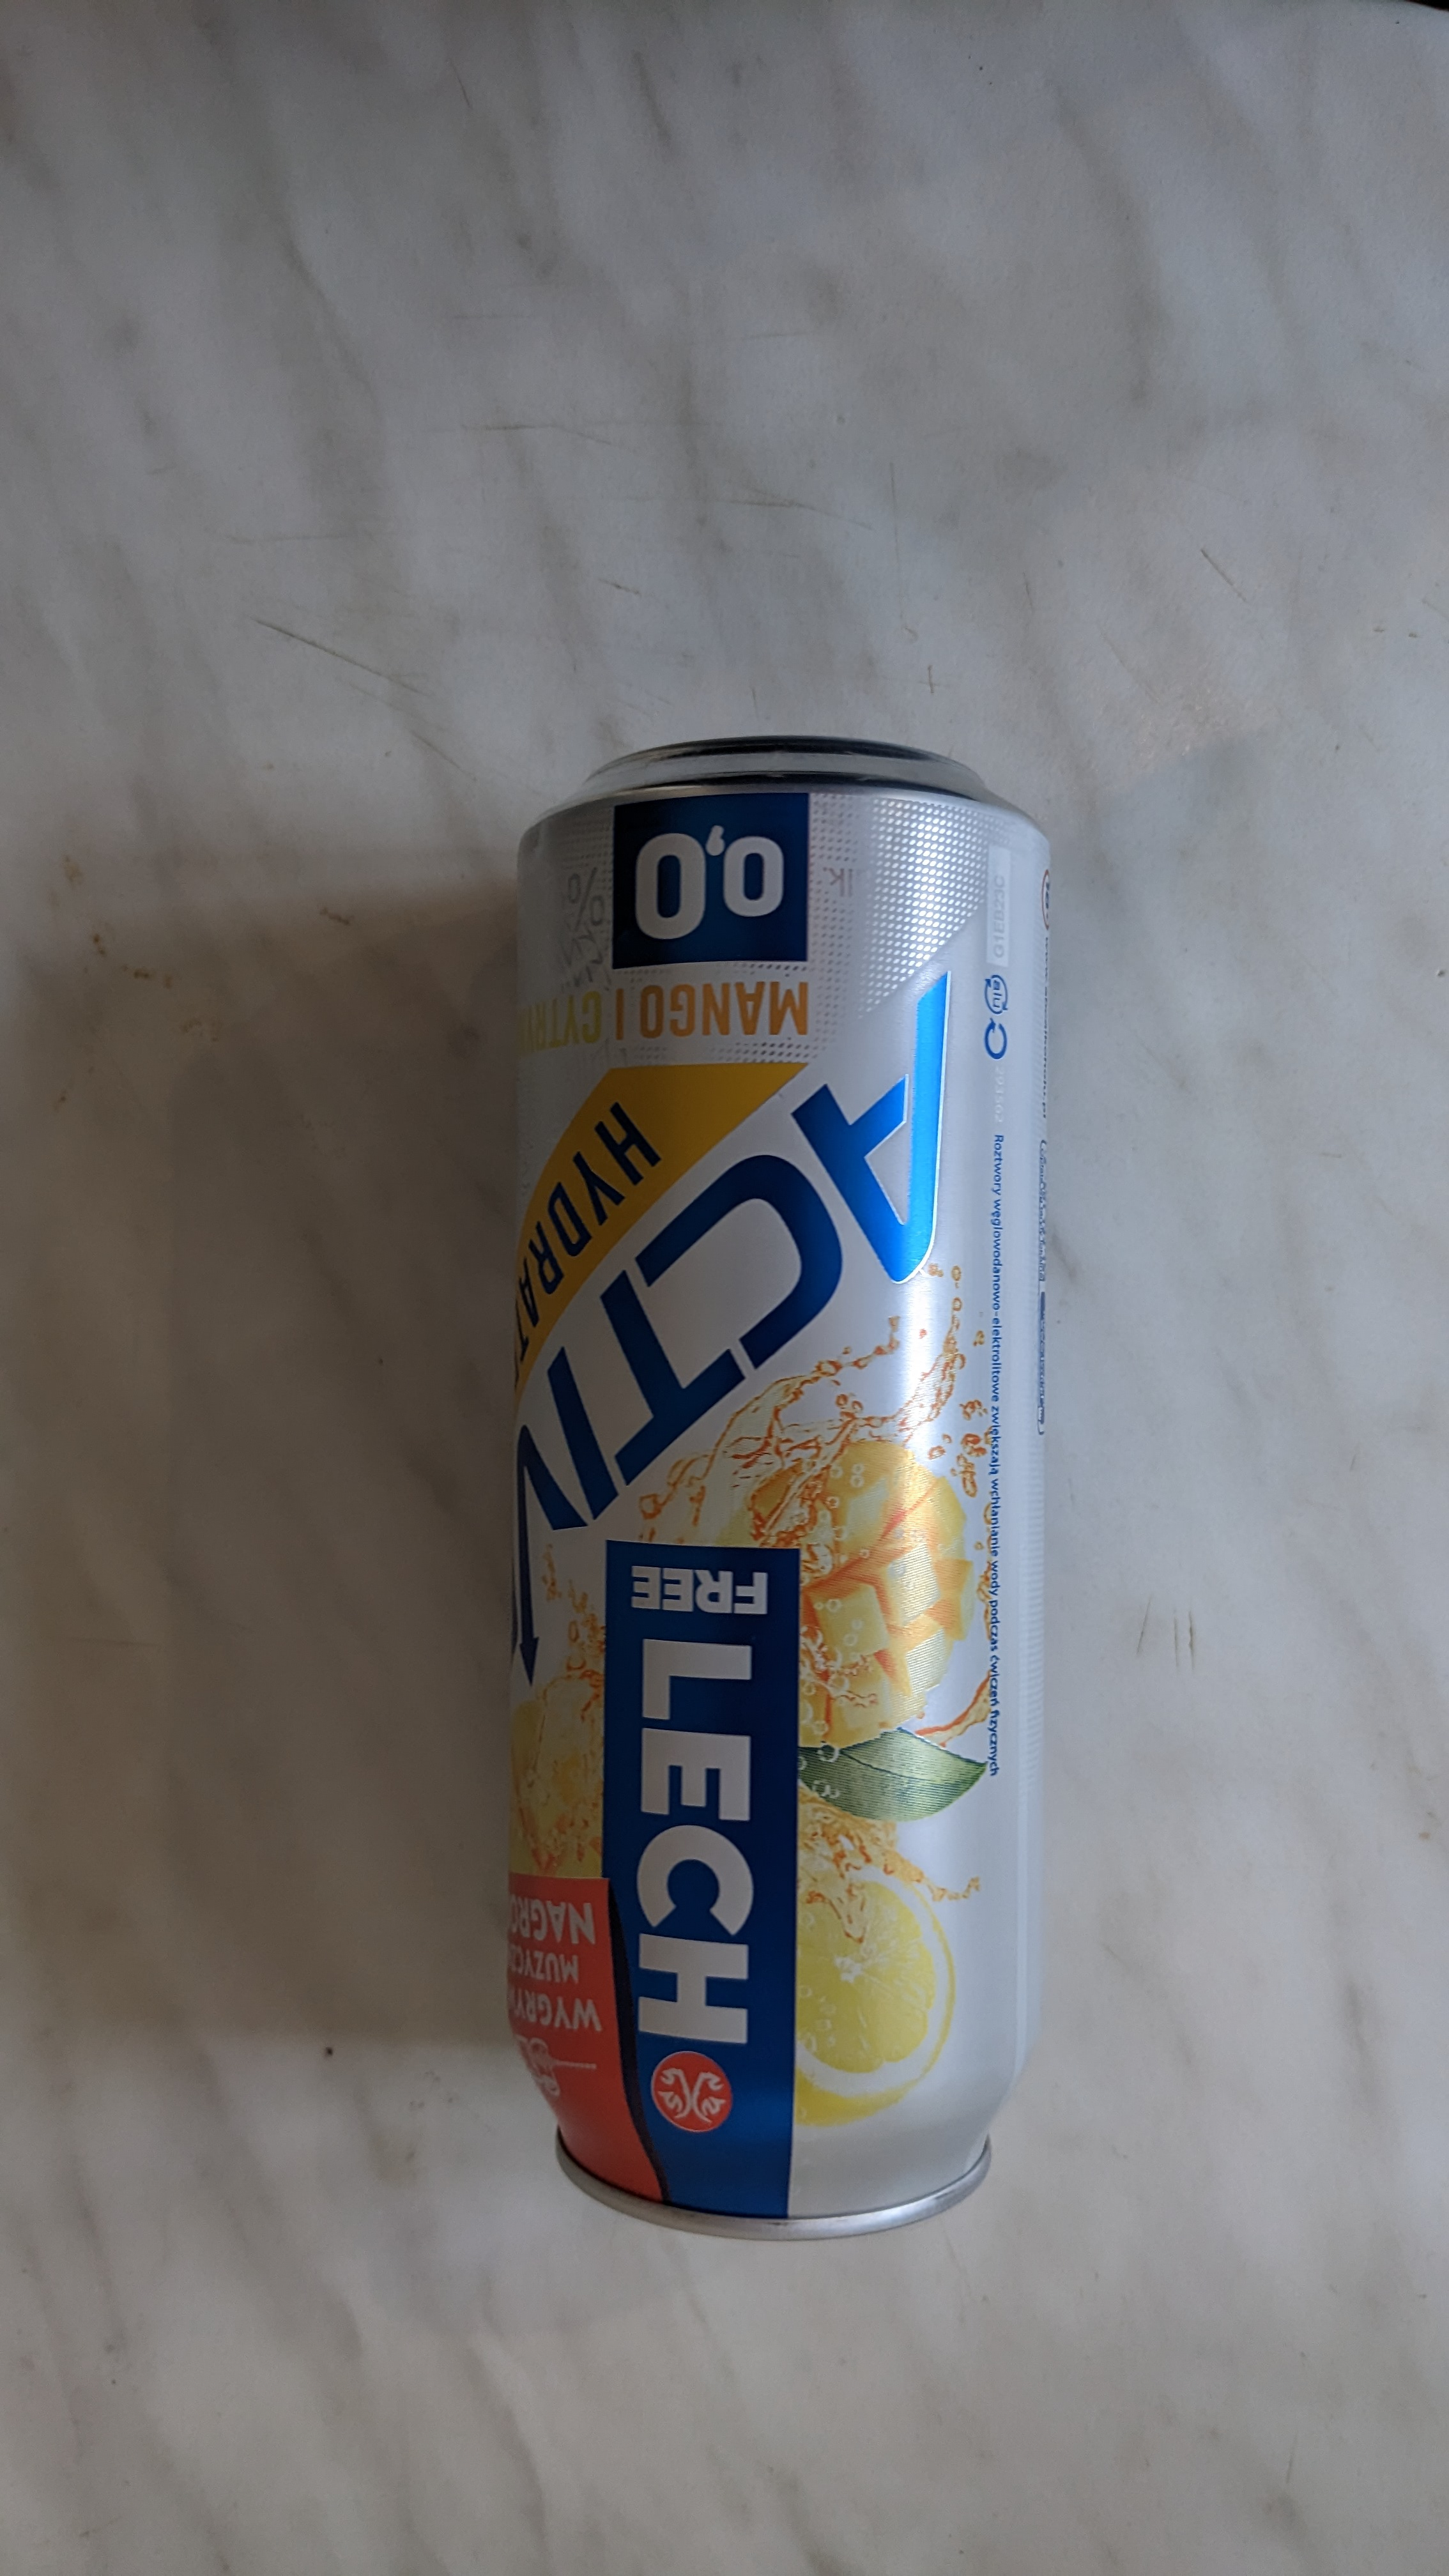lech-active: (497, 727, 1069, 2245)
